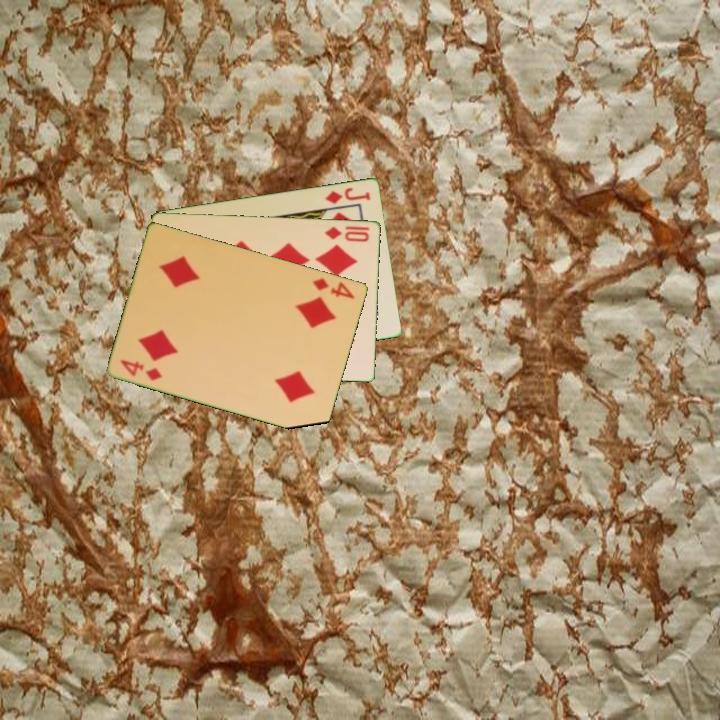10d: (321, 223, 372, 244)
4d: (309, 274, 358, 302), (117, 356, 166, 383)
Jd: (322, 183, 374, 207)
